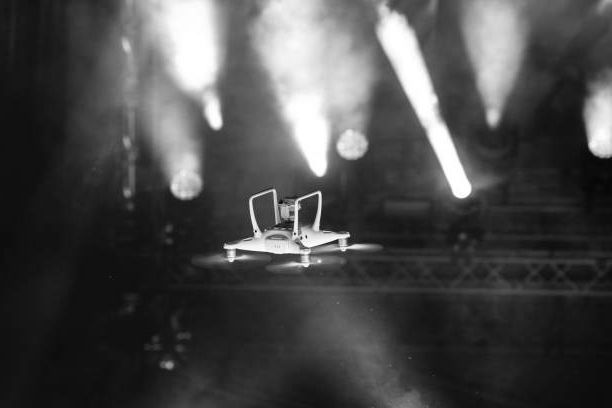Drone: (185, 184, 387, 275)
